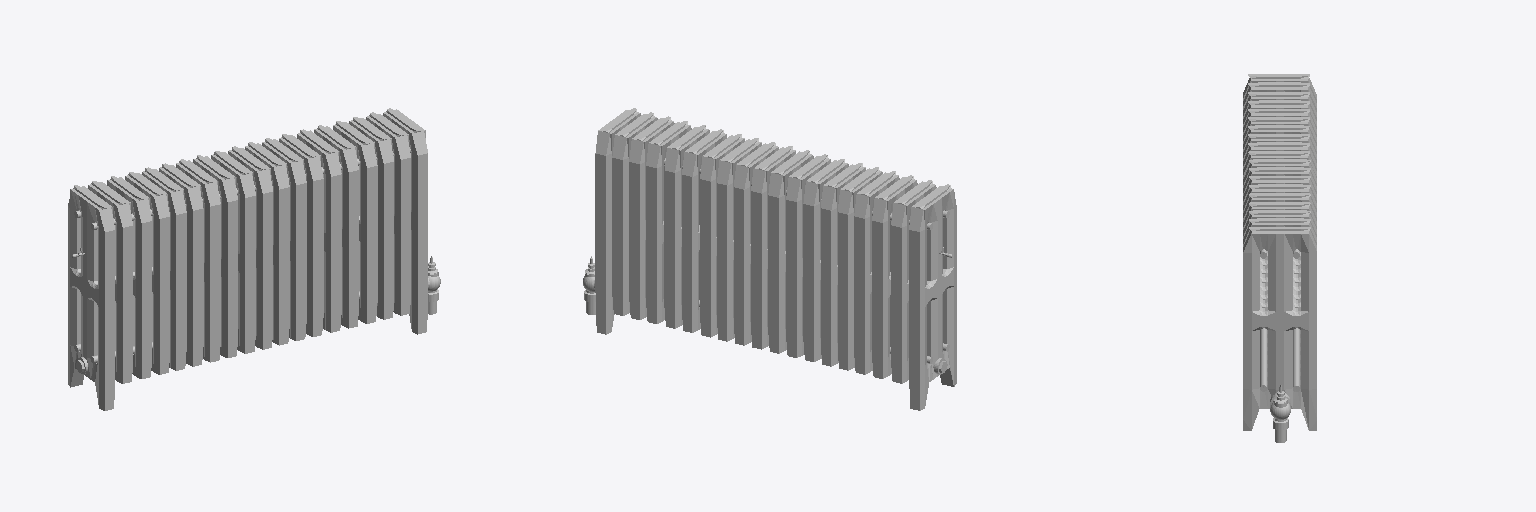
File: radiator.obj
The picture shows the model from 3 angles: view 1: azimuth 30°, elevation 25°; view 2: azimuth 150°, elevation 25°; view 3: azimuth 270°, elevation 25°; orthographic projection.
Visible parts, largest first — view 1: Radiator_Cube.018; view 2: Radiator_Cube.018; view 3: Radiator_Cube.018.
Part boxes in pixels (x1,y1,x2,y2): Radiator_Cube.018: (68, 108, 440, 410); Radiator_Cube.018: (583, 108, 956, 410); Radiator_Cube.018: (1243, 74, 1316, 442).
Bounding box in the file's own units: 140 × 73.08 × 24.7.